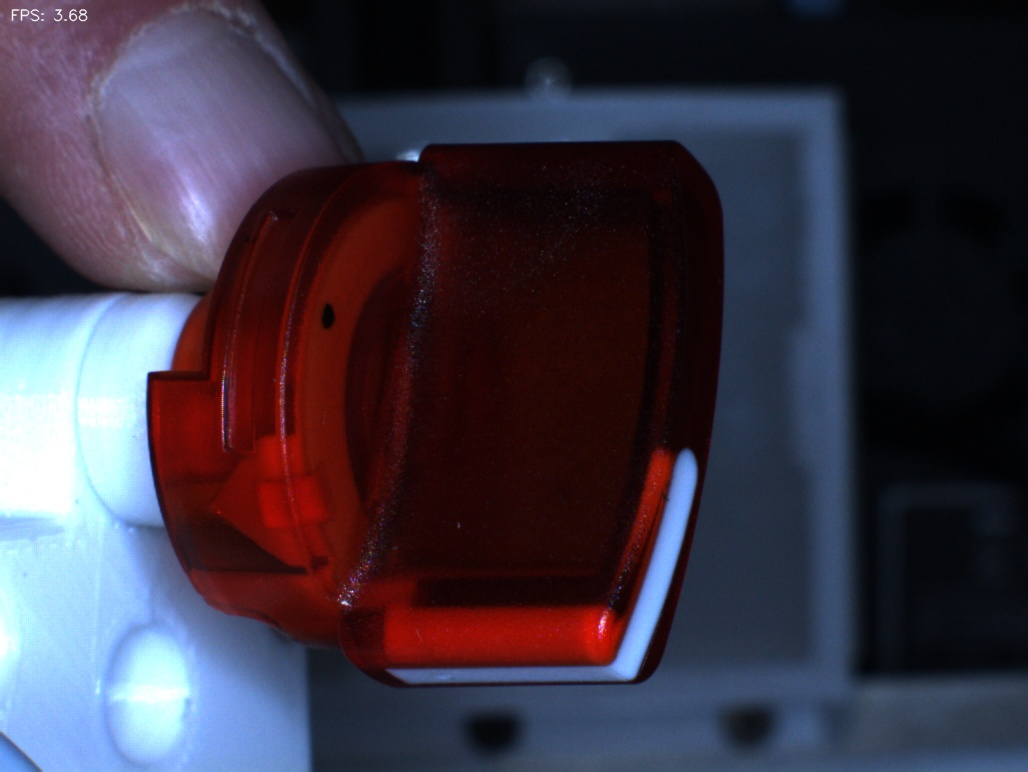PointNoir: (296, 267, 371, 376)
